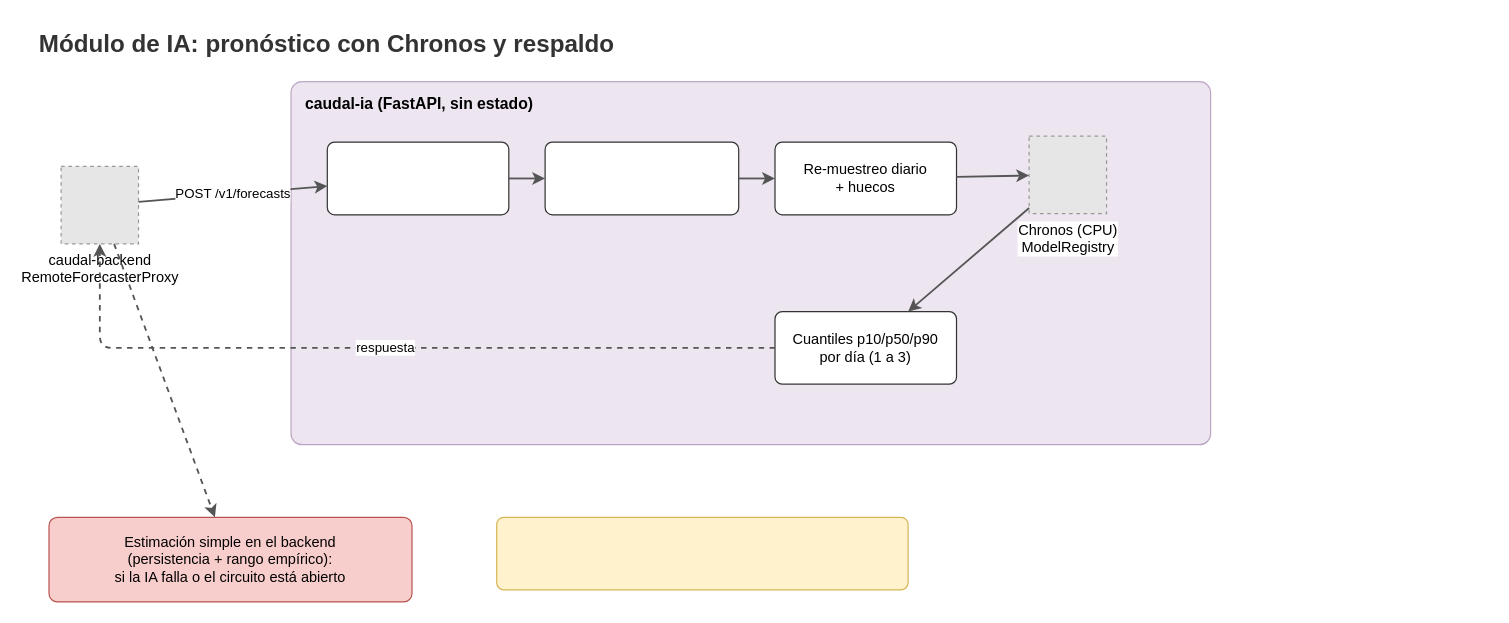
The diagram is 1509 pixels wide and 623 high, and some of its shapes have lost their labels. Grey dashed boxes stand in for pictures. The shapes that lost their labels are listed below. From the top down, each one's centre as x and y in pixels, then its label:
the point at 417,178: Token de servicio (tiempo constante)
the point at 641,178: Validar serie (≤ 2.000 puntos, finitos)
the point at 701,553: Evaluación: MAE, WQL, cobertura [p10, p90], skill = 1 − MAE_IA / MAE_simple
